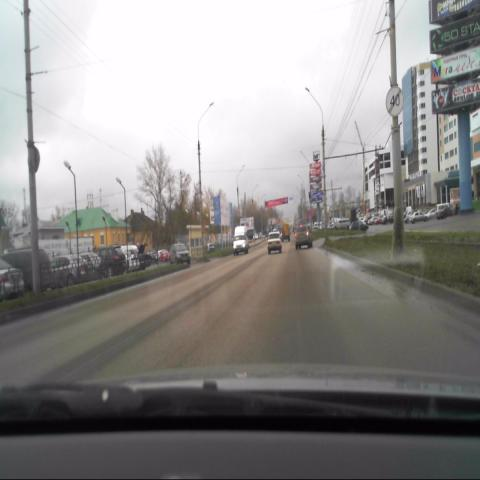3_25: (385, 86, 404, 117)
